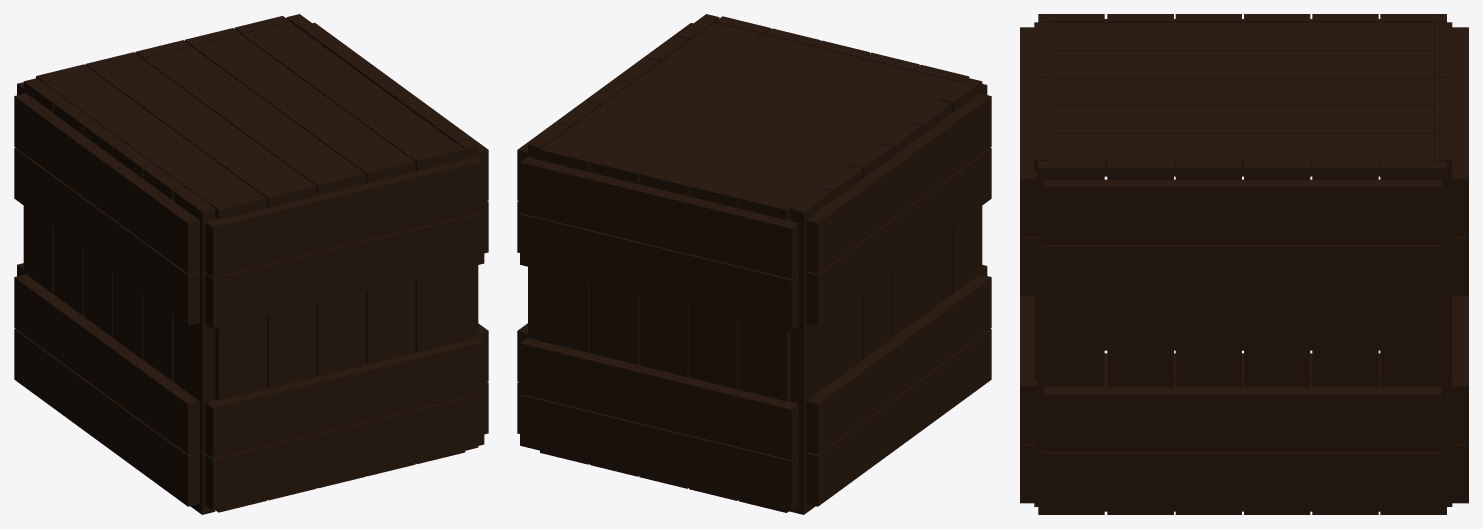
File: chest.FBX
3 renders of one model, left to right at view 1: azimuth 30°, elevation 25°; view 2: azimuth 150°, elevation 25°; view 3: azimuth 270°, elevation 25°, orthographic. The views are drawn at different scales.
Parts seen in each view (by area): view 1: chest; view 2: chest; view 3: chest.
Part boxes in pixels (<box>): chest: <box>14,14,488,514</box>; chest: <box>517,14,991,514</box>; chest: <box>1020,14,1468,514</box>.
Bounding box in the file's own units: 62.33 × 60 × 70.38.
